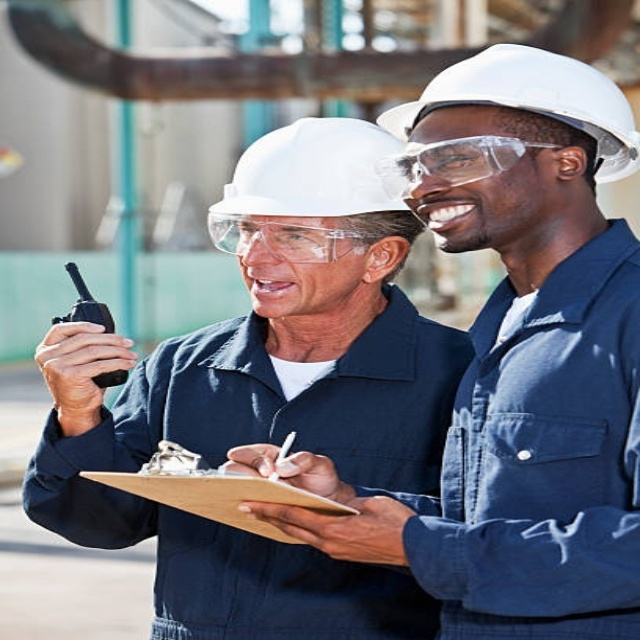Gafas: (373, 136, 571, 202), (209, 216, 383, 263)
Sin_guantes: (233, 488, 417, 568), (34, 318, 140, 410), (223, 442, 344, 502)
Sin_mascara: (408, 198, 482, 243), (243, 270, 300, 311)
